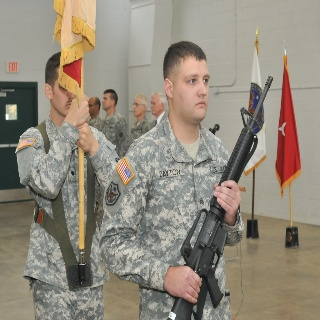rifle: (167, 77, 277, 320)
